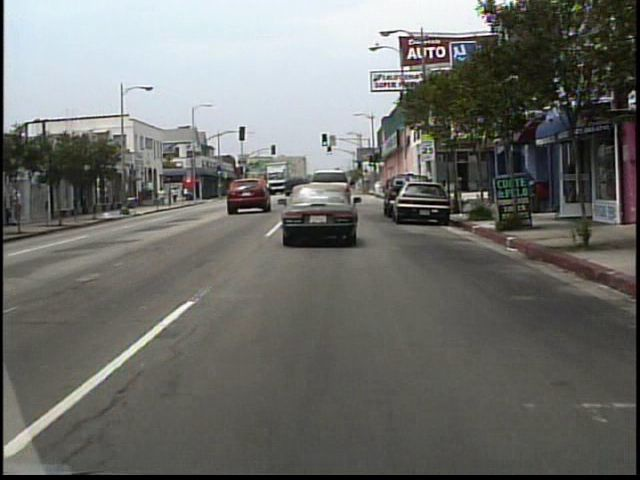person: (13, 187, 23, 225), (172, 186, 180, 205), (160, 186, 167, 207), (169, 187, 174, 206)
